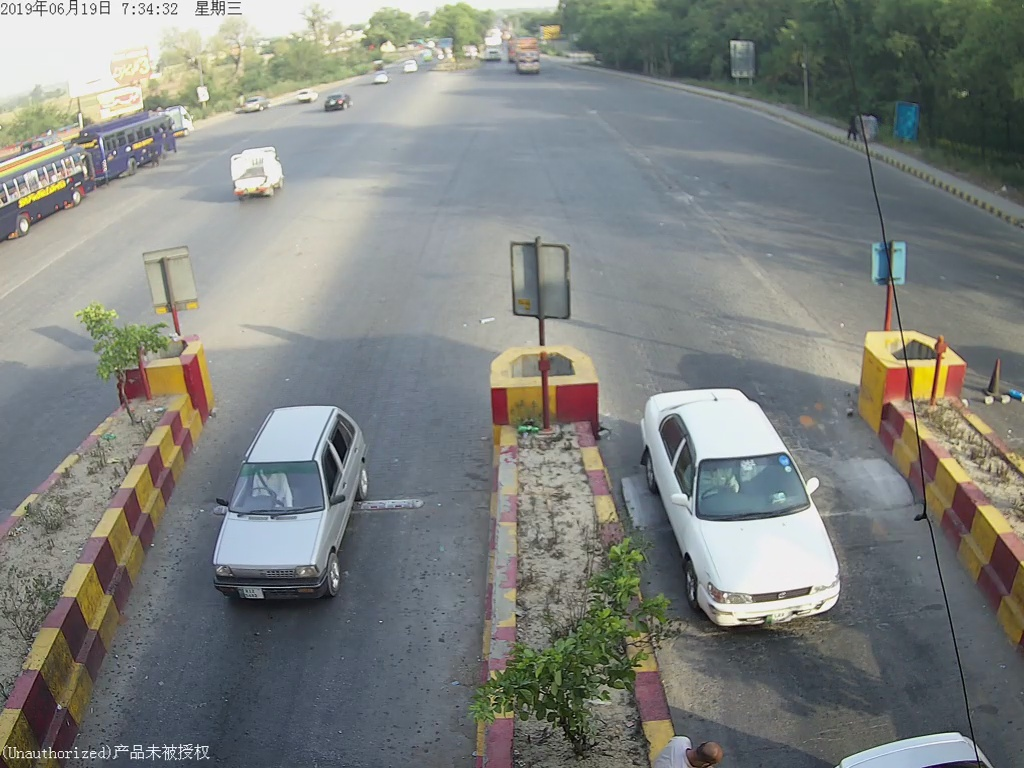Cat-1: (636, 369, 853, 620), (209, 402, 382, 618)
